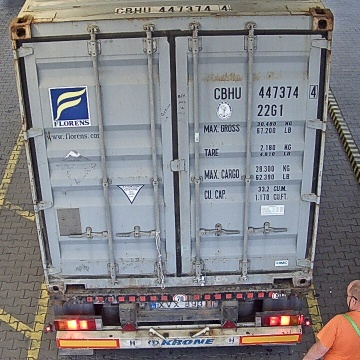serial_id: (214, 85, 318, 99)
